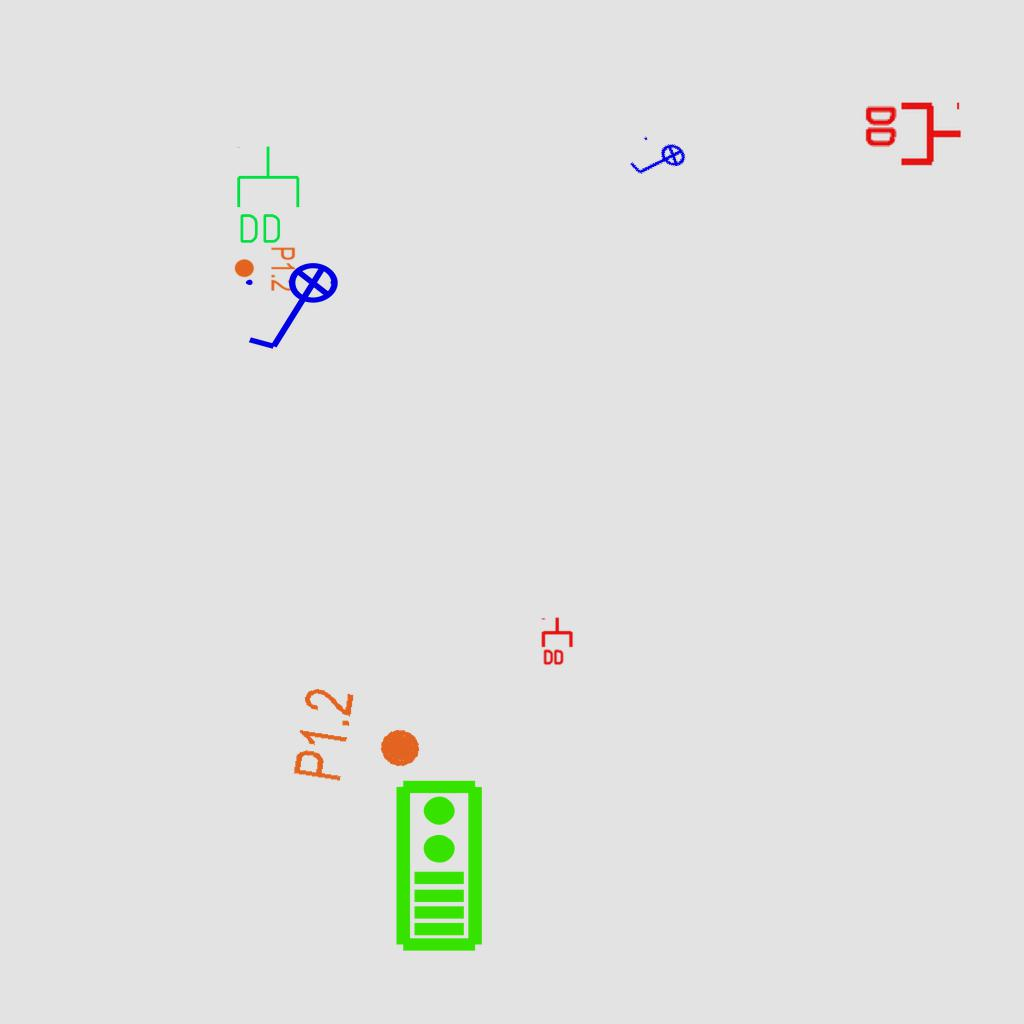Ausschalter_beleuchtet: (240, 261, 352, 357), (622, 127, 696, 197)
Datenanschluss_zweifach: (233, 144, 302, 247), (861, 101, 964, 170), (541, 616, 575, 667)
Downlight_LED_Einbauleuchten_Flur: (289, 684, 430, 796), (233, 246, 297, 292)
Gegensprechanlage_mit_Video: (390, 777, 485, 953)
